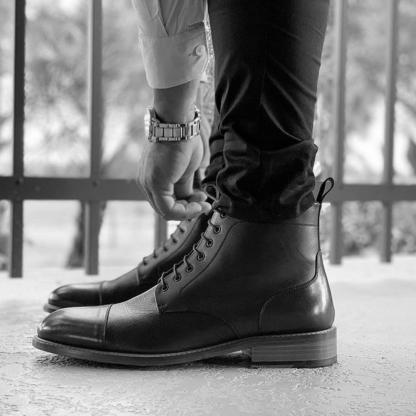ankle: (242, 260, 253, 268)
heel: (321, 352, 332, 362)
left_foot: (33, 225, 338, 370)
pinky: (64, 329, 73, 336)
toe: (61, 311, 69, 316)
